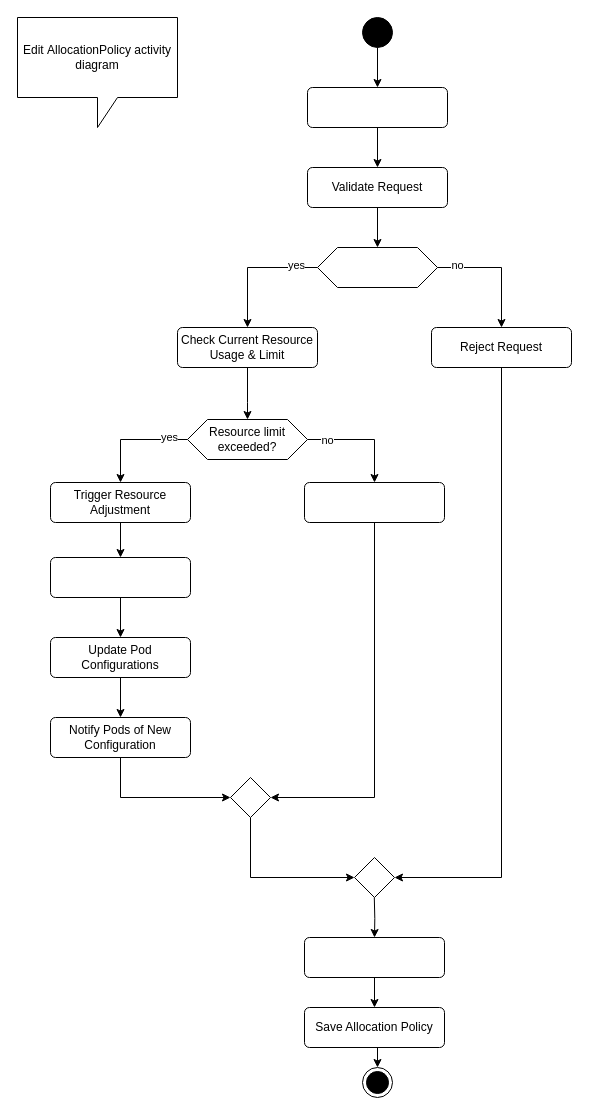
Some shapes in this 589 by 1115 pixel diagram are drawn without their labels. The centre of each missing label's shape, as x and y in pixels:
"Log changes" goes at point 374,957.
"No need to adjust resources" goes at point 374,502.
"Reallocate Resources" goes at point 120,577.
"Receive Request to Modify Allocation Policy" goes at point 377,107.
"Request is valid?" goes at point 377,267.
